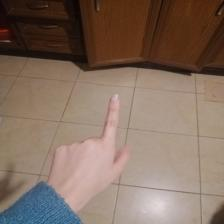one: (50, 89, 150, 207)
